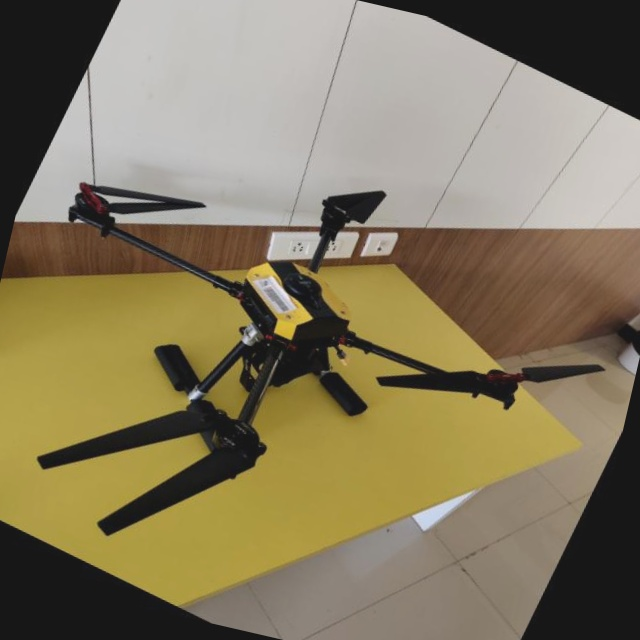quadcopter: (0, 44, 640, 640)
